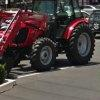Tractor: (7, 3, 99, 74)
